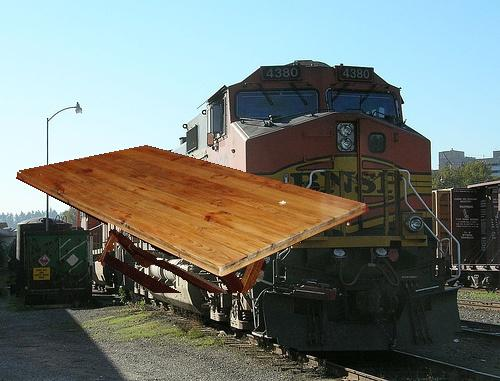tampered: (17, 146, 369, 293)
